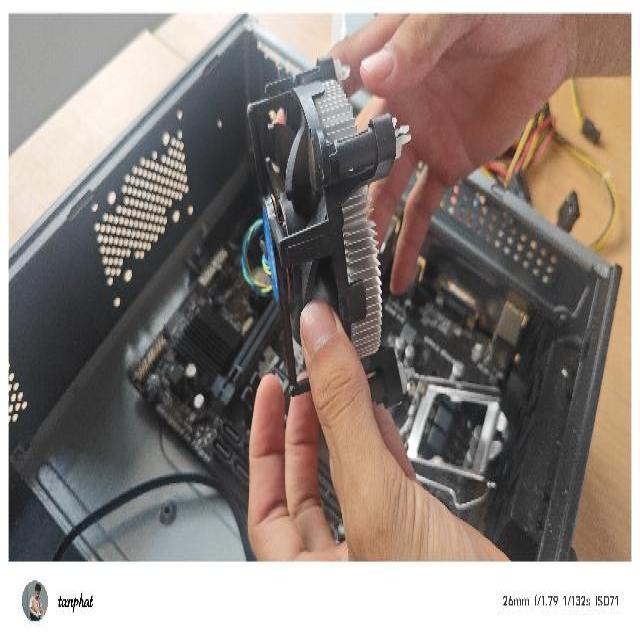CPU_Fan: (243, 54, 415, 412)
